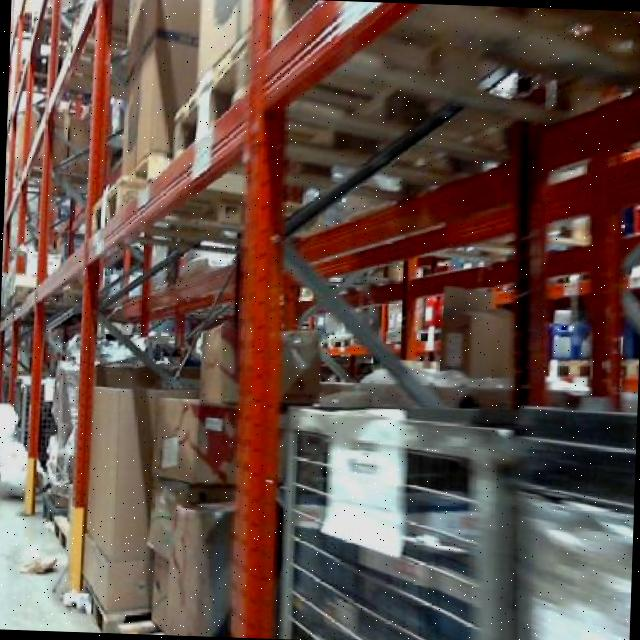pallet: (164, 22, 258, 178)
